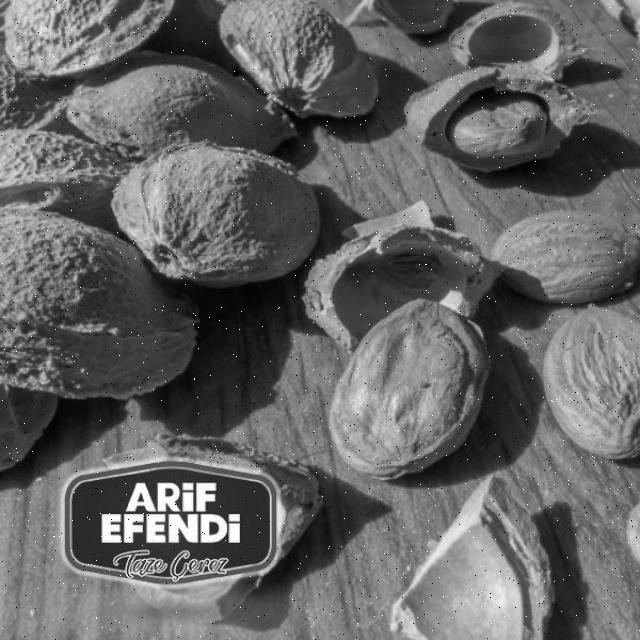kayisi cekirdegi: (2, 206, 197, 410), (376, 476, 564, 640), (110, 148, 325, 290), (302, 208, 507, 352), (67, 39, 305, 158), (327, 292, 487, 464), (224, 3, 387, 119), (408, 68, 597, 168), (541, 297, 640, 461), (0, 108, 136, 225), (483, 211, 640, 300), (5, 0, 175, 70), (446, 0, 588, 74), (0, 376, 55, 474)
